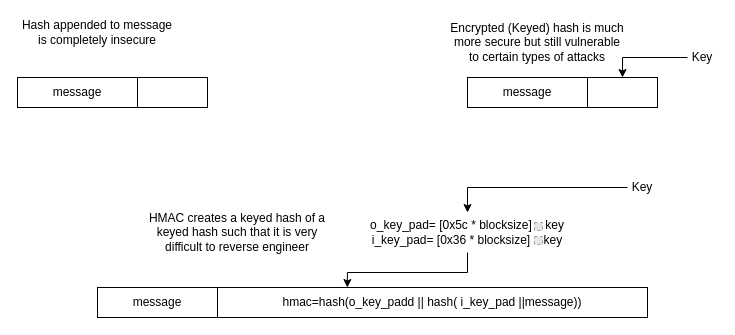
Image size: 735x335. Some labels were removed from this diagram. Grey dashed boxes stand in for pictures. Each missing label, with the centre of its shape:
"hash(k|m)" goes at point (622, 92).
"hash(m)" goes at point (172, 92).
